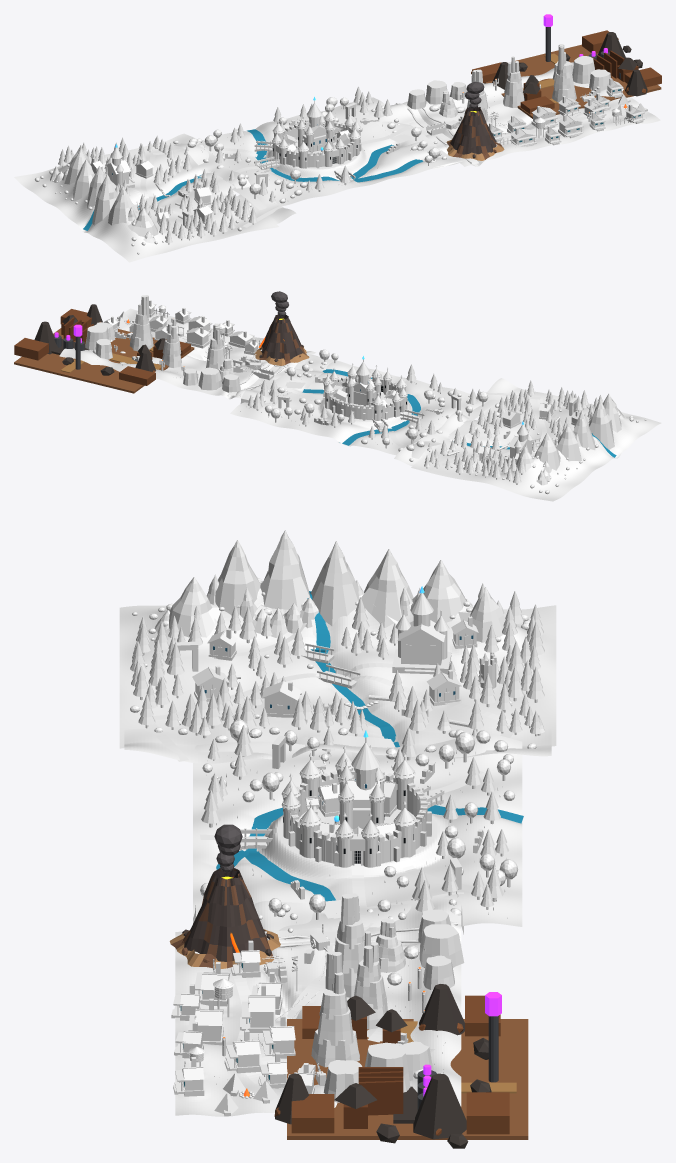
File: wizard-royale-mine-region.glb
3 views of the same model, one above another, from view 1: azimuth 30°, elevation 25°; view 2: azimuth 150°, elevation 25°; view 3: azimuth 270°, elevation 25° (orthographic). The views are drawn at different scales.
Visible parts, largest first — view 1: Castle Valley Terrain, Detailed Alpine Mountain Terrain, Detailed Ember Dunes Terrain, Natural castle valley to mountain foothills, Deepstone quarry floor, Ashen Crown Volcano, Wide natural grass to desert transition, Main blue river, High Crown Peak, Frostfang Peak, Twin Moon Peak, Boundary cliff.004 (+10 smaller); view 2: Castle Valley Terrain, Detailed Alpine Mountain Terrain, Detailed Ember Dunes Terrain, Deepstone quarry floor, Natural castle valley to mountain foothills, Ashen Crown Volcano, Wide natural grass to desert transition, High Crown Peak, Deepstone quarry terrace 4, Twin Moon Peak, Main blue river, Eastern Rampart Peak (+7 smaller); view 3: Castle Valley Terrain, Detailed Alpine Mountain Terrain, Detailed Ember Dunes Terrain, Deepstone quarry floor, Natural castle valley to mountain foothills, Ashen Crown Volcano, Wide natural grass to desert transition, High Crown Peak, Silver Needle Peak, Deepstone spoil heap 2, Twin Moon Peak, Main blue river (+18 smaller).
Part boxes in pixels (<box>): Castle Valley Terrain: <box>174,97,459,209</box>; Detailed Alpine Mountain Terrain: <box>14,141,278,262</box>; Detailed Ember Dunes Terrain: <box>395,62,660,166</box>; Natural castle valley to mountain foothills: <box>146,133,296,228</box>; Deepstone quarry floor: <box>471,44,661,118</box>; Ashen Crown Volcano: <box>450,107,496,154</box>; Wide natural grass to desert transition: <box>358,104,465,169</box>; Main blue river: <box>247,129,393,181</box>; High Crown Peak: <box>92,174,117,225</box>; Frostfang Peak: <box>108,186,136,225</box>; Twin Moon Peak: <box>73,159,94,201</box>; Boundary cliff.004: <box>572,56,594,83</box>; Castle Valley Terrain: <box>230,359,499,458</box>; Detailed Alpine Mountain Terrain: <box>411,391,661,501</box>; Detailed Ember Dunes Terrain: <box>59,308,315,399</box>; Deepstone quarry floor: <box>14,328,194,393</box>; Natural castle valley to mountain foothills: <box>394,378,528,471</box>; Ashen Crown Volcano: <box>261,314,304,361</box>; Wide natural grass to desert transition: <box>240,353,334,406</box>; High Crown Peak: <box>589,400,614,449</box>; Deepstone quarry terrace 4: <box>14,338,48,360</box>; Twin Moon Peak: <box>556,423,581,461</box>; Main blue river: <box>302,389,420,445</box>; Eastern Rampart Peak: <box>534,432,560,470</box>; Castle Valley Terrain: <box>193,734,522,930</box>; Detailed Alpine Mountain Terrain: <box>119,588,556,748</box>; Detailed Ember Dunes Terrain: <box>175,921,461,1116</box>; Deepstone quarry floor: <box>287,1019,528,1139</box>; Natural castle valley to mountain foothills: <box>124,724,551,763</box>; Ashen Crown Volcano: <box>183,869,269,961</box>; Wide natural grass to desert transition: <box>193,892,463,937</box>; High Crown Peak: <box>260,530,310,610</box>; Silver Needle Peak: <box>310,541,359,625</box>; Deepstone spoil heap 2: <box>413,1073,466,1139</box>; Twin Moon Peak: <box>361,549,413,628</box>; Main blue river: <box>245,805,523,901</box>.
Size of the model in its own units: 72.29 by 8.87 by 24.4.
